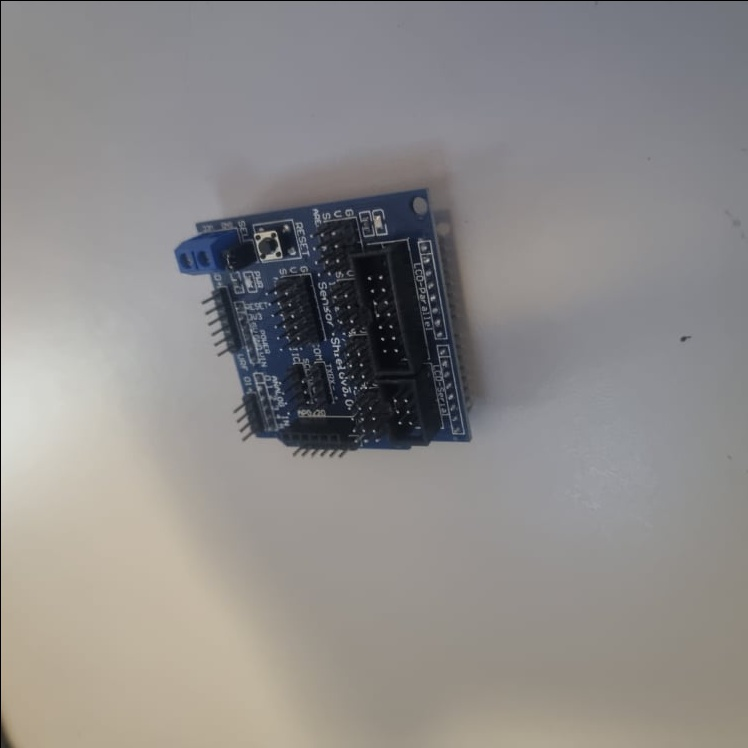5V EXPANSION: (168, 187, 475, 457)
